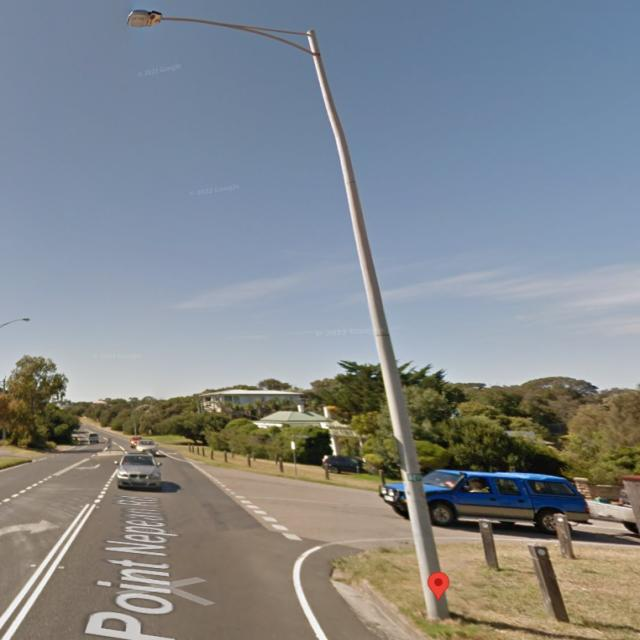concrete-pole: (307, 29, 451, 623)
mid mount suitable pole: (125, 8, 451, 624)
streetlight: (126, 9, 317, 56)
